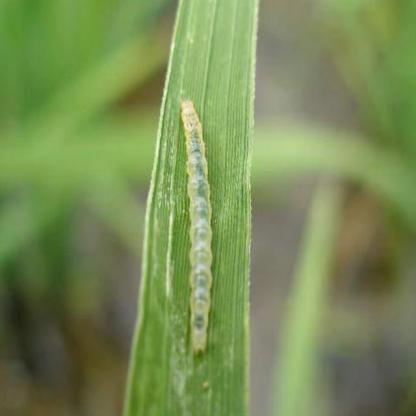leaf-folder: (154, 86, 233, 386)
